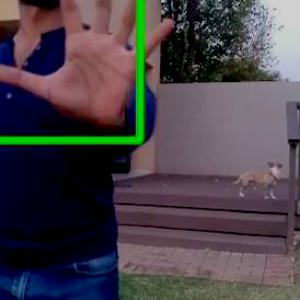follow_hand: (1, 0, 180, 132)
